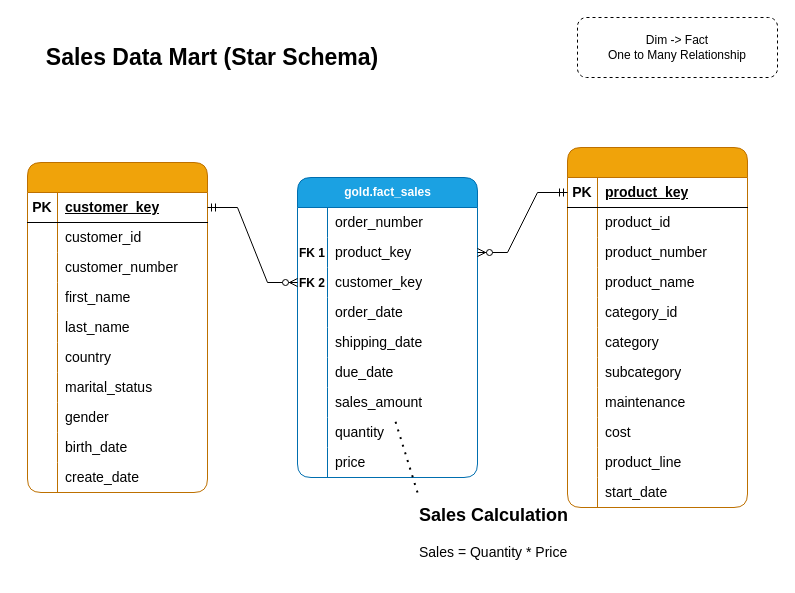
Some shapes in this 795 by 593 pixel diagram are drawn without their labels. The box of each missing label's shape, as (x1, y1, x2, y2) in pixels:
gold.dim_customers: (26, 162, 208, 492)
gold.dim_products: (566, 146, 748, 508)
